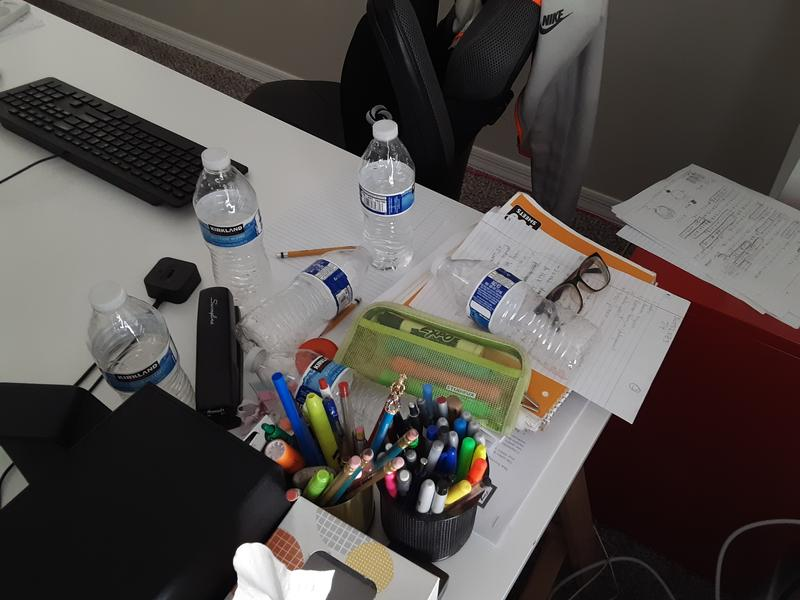glasses: (534, 251, 614, 335)
